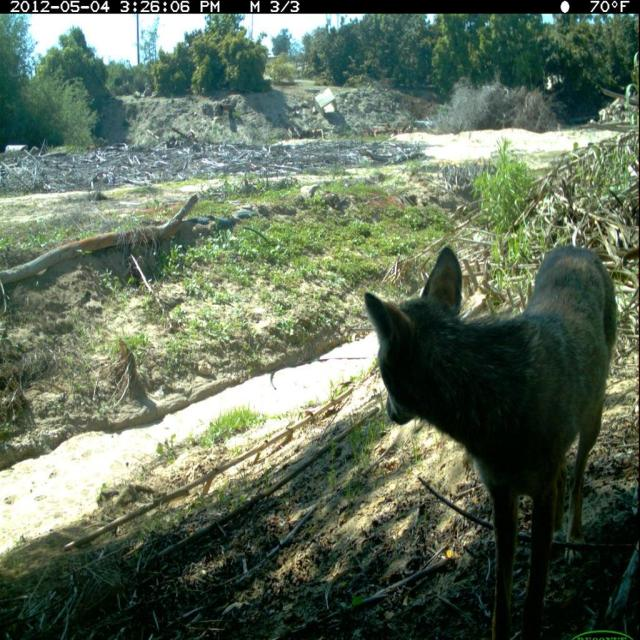coyote: (361, 243, 621, 634)
